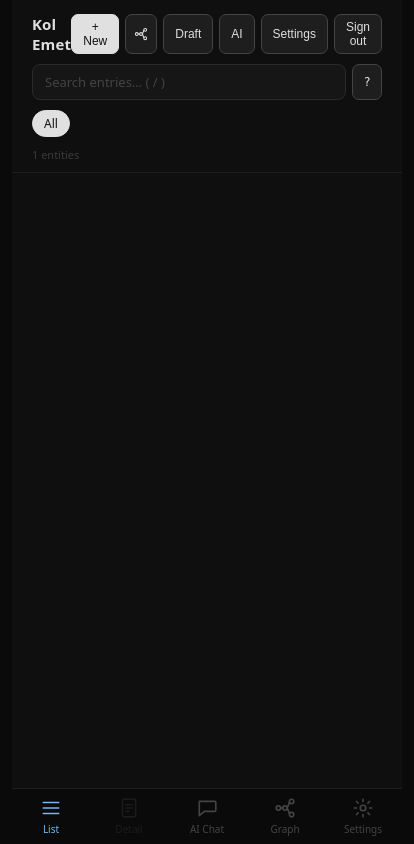
Test case: WikiLayout settings › a failed export says so in Settings rather than navigating away
Click the 5th button with class "tab-btn" at coordinates (363, 816), box [324,789,402,843]
(page scrolled)
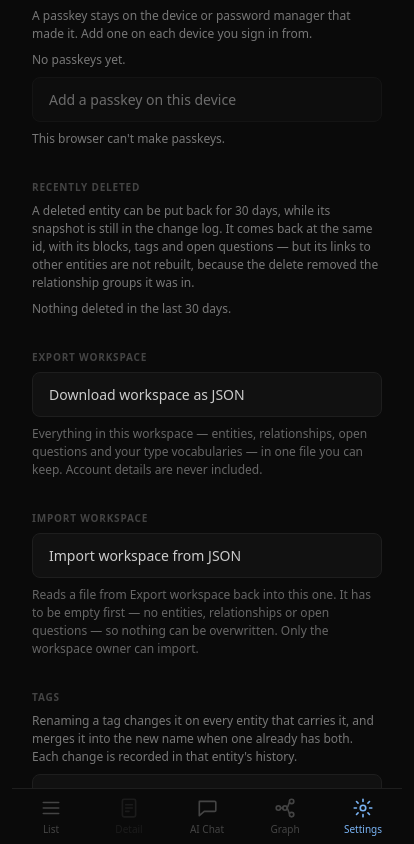
Click the button with class "settings-row" showing "Download workspace as JSON" at coordinates (207, 394), box [32,372,382,416]
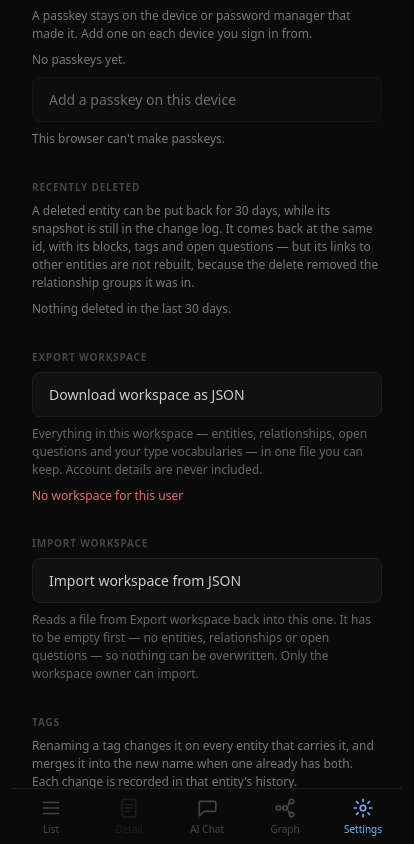
Now the button with class "settings-row" showing "Download workspace as JSON" is enabled, box [32,372,382,417]
Now the message with class "settings-error" reads "No workspace for this user", box [32,487,183,504]
